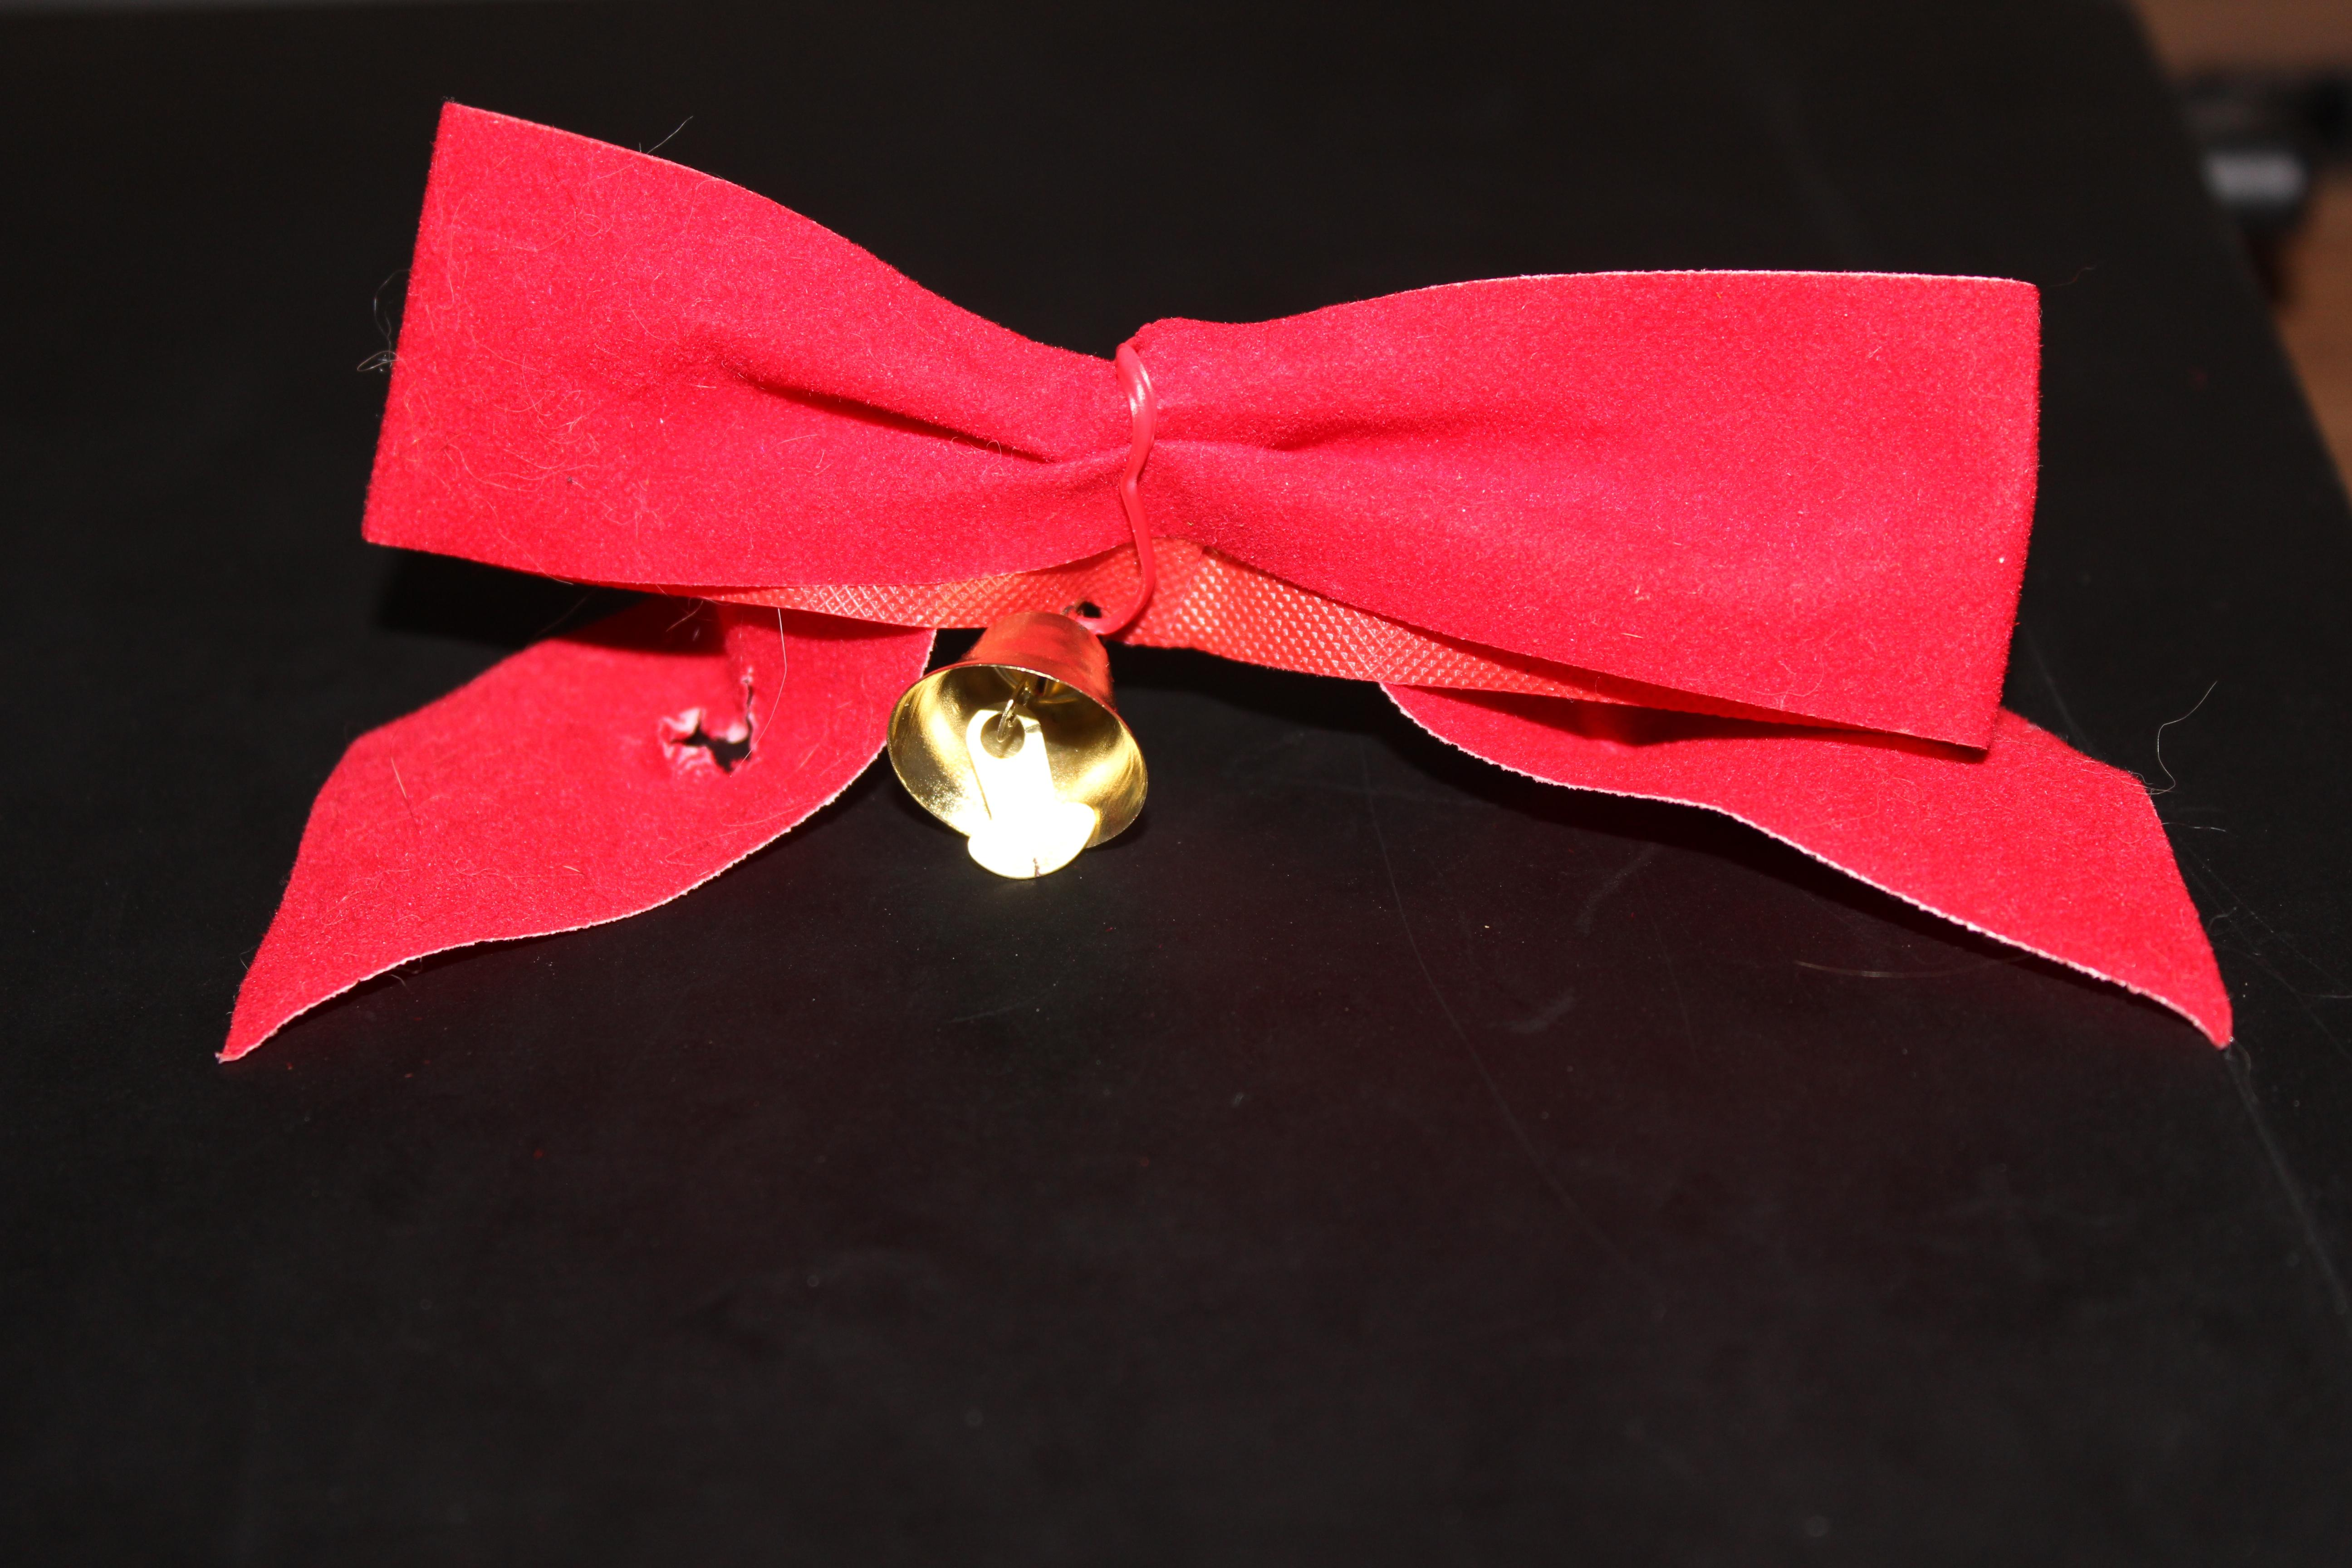redBow: (168, 65, 2278, 1129)
